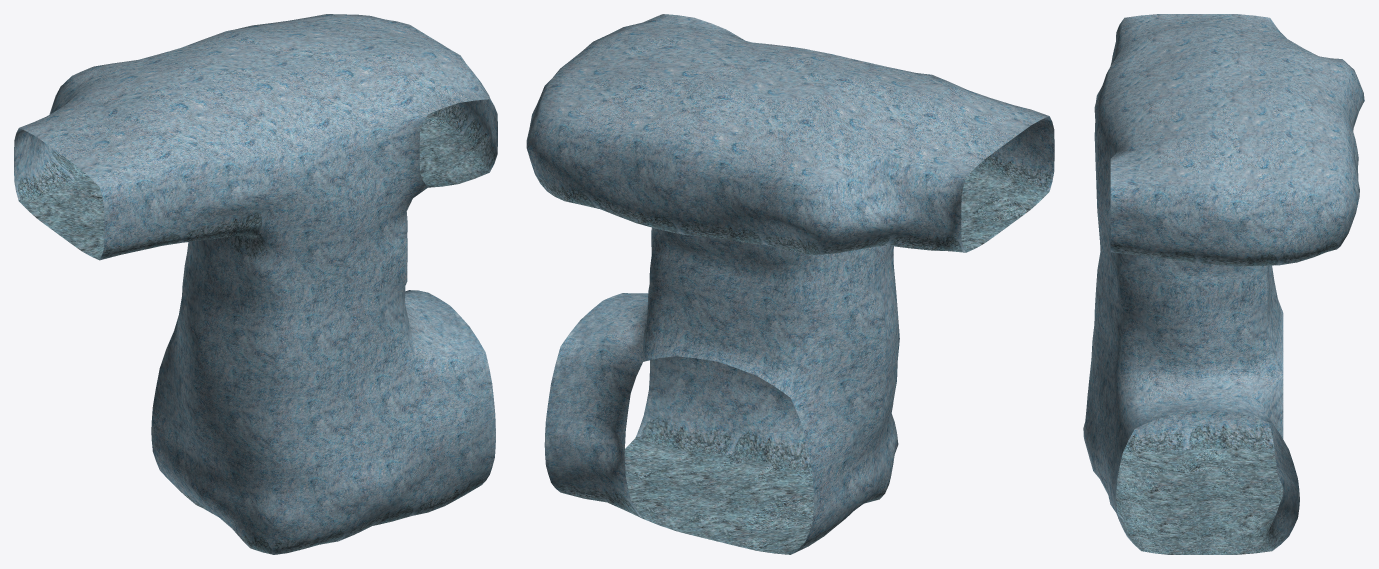
File: thm_all_cave_s03_ice_r20_r20.fbx
3 renders of one model, left to right at view 1: azimuth 30°, elevation 25°; view 2: azimuth 150°, elevation 25°; view 3: azimuth 270°, elevation 25°, orthographic. The views are drawn at different scales.
Visible parts, largest first — view 1: mesh_node; view 2: mesh_node; view 3: mesh_node.
Part boxes in pixels (x1=…): mesh_node: x1=14, y1=14, x2=497, y2=554; mesh_node: x1=526, y1=14, x2=1054, y2=554; mesh_node: x1=1083, y1=14, x2=1364, y2=554.
Bounding box in the file's own units: 43.02 × 43.8 × 27.66.
